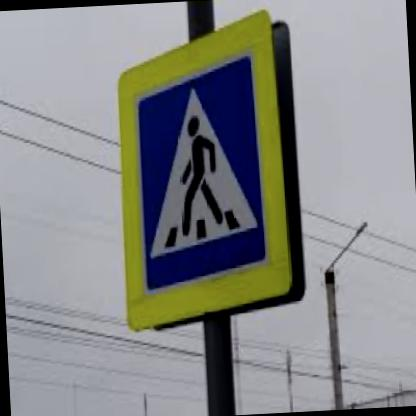crosswalk: (132, 54, 268, 293)
